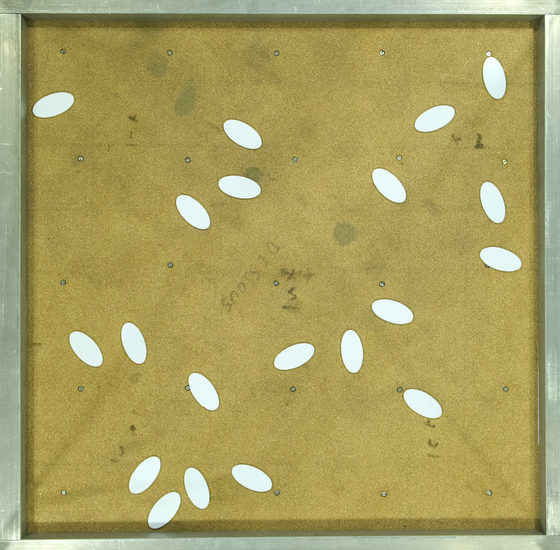pallet: (271, 339, 318, 377), (475, 239, 523, 276), (115, 320, 152, 366), (173, 191, 214, 232), (124, 452, 165, 493), (232, 456, 273, 497), (402, 381, 443, 422), (33, 85, 74, 126), (64, 329, 105, 370), (183, 370, 224, 411), (369, 162, 410, 203), (221, 112, 262, 153), (415, 99, 456, 140), (144, 491, 185, 532), (218, 168, 260, 208), (371, 294, 414, 330), (478, 56, 510, 102), (339, 325, 371, 371), (474, 178, 506, 224), (181, 464, 211, 510)
